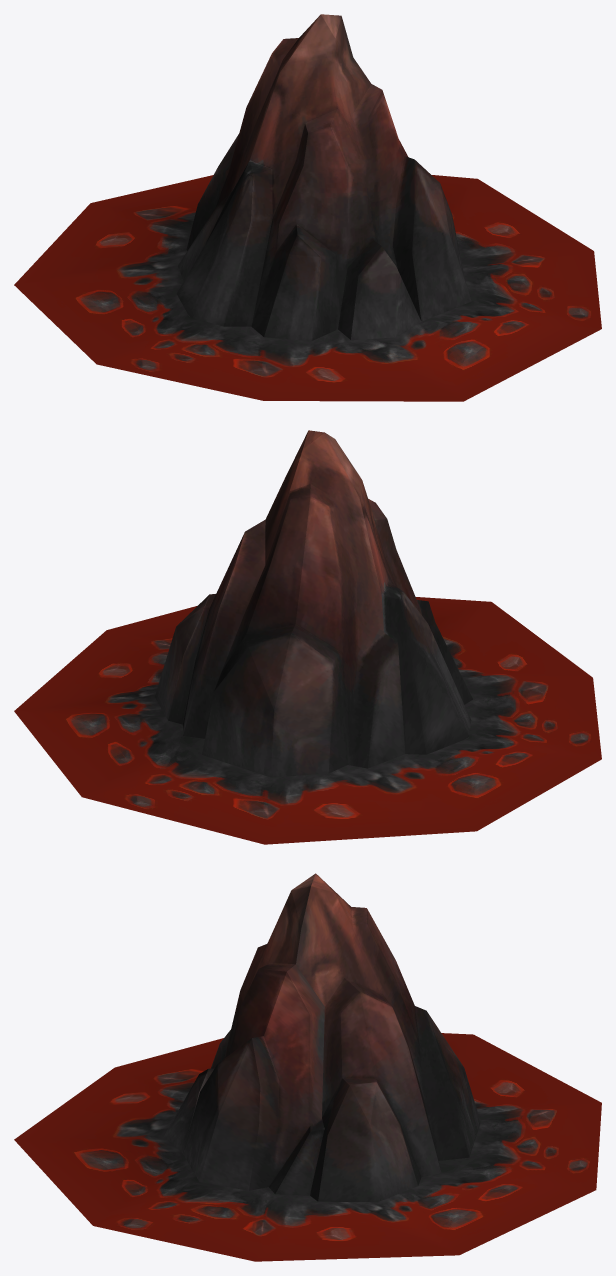
The model's file is rock_footer01.fbx.
3 renders of one model, top to bottom at view 1: azimuth 30°, elevation 25°; view 2: azimuth 150°, elevation 25°; view 3: azimuth 270°, elevation 25°, orthographic. The views are drawn at different scales.
Visible parts, largest first — view 1: rock_footer01-0; view 2: rock_footer01-0; view 3: rock_footer01-0.
Part boxes in pixels (<box>): rock_footer01-0: <box>14,14,601,401</box>; rock_footer01-0: <box>14,430,601,844</box>; rock_footer01-0: <box>14,873,601,1261</box>.
Bounding box in the file's own units: 10.28 × 5.49 × 10.8.
